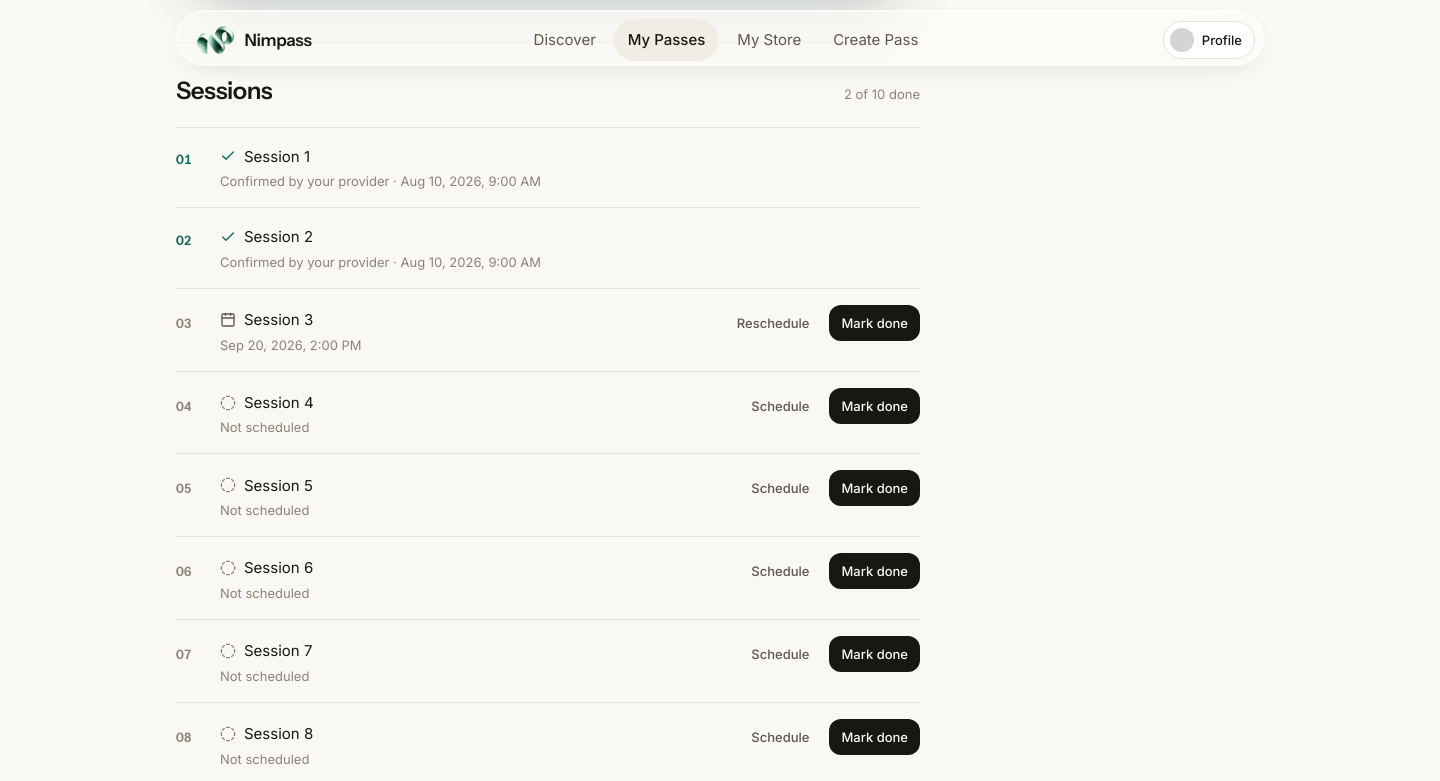
it: pass sessions › refuses to guess when the backend rejects a completion
The width and height of the screenshot is (1440, 781).
(page scrolled)
Click the button "Mark done" in the row of "04" at (875, 406), box 829,388 -> 920,424
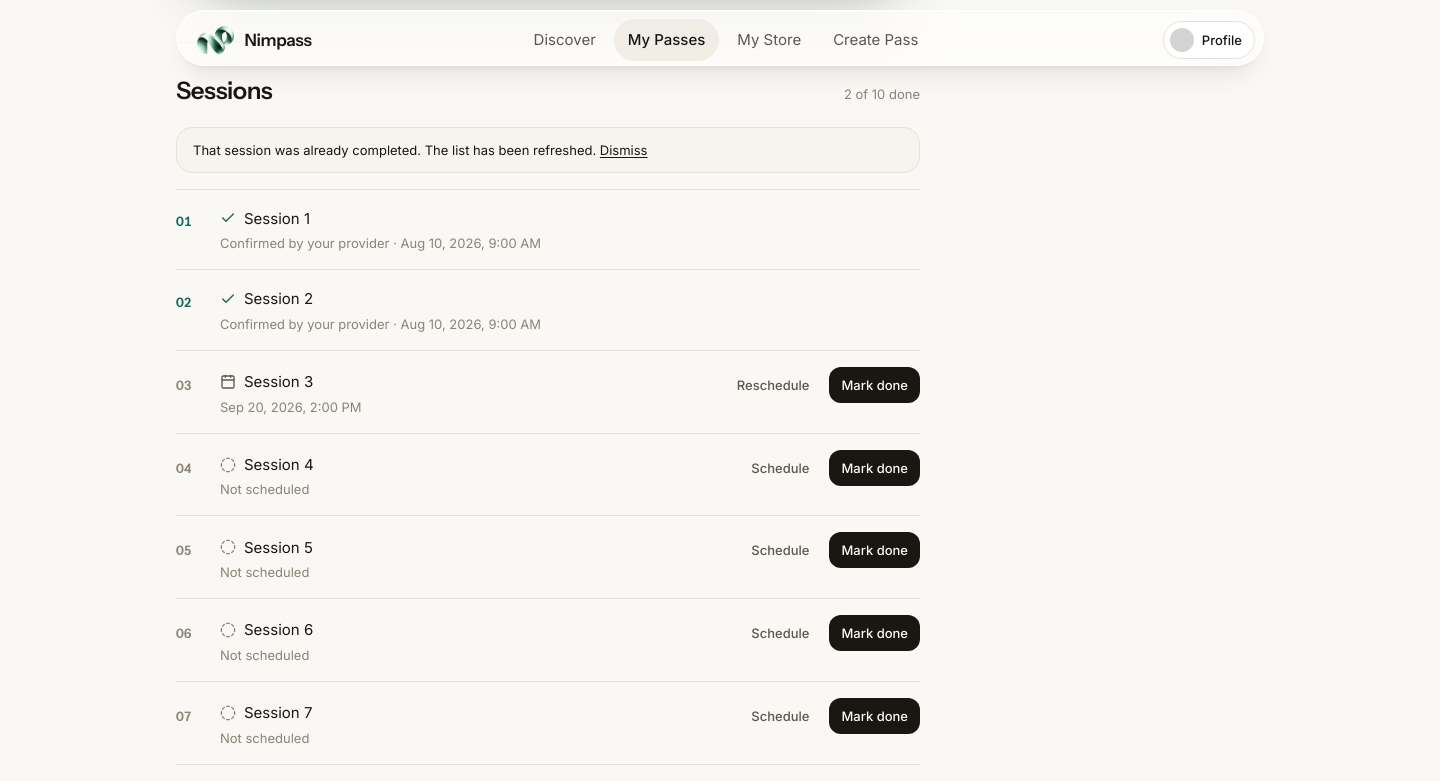
Expected: the text "2 of 10 done" is shown, 844,86 -> 920,102
Expected: the text "That session was already completed. The list has been refreshed. Dismiss" is shown, 176,126 -> 920,172
